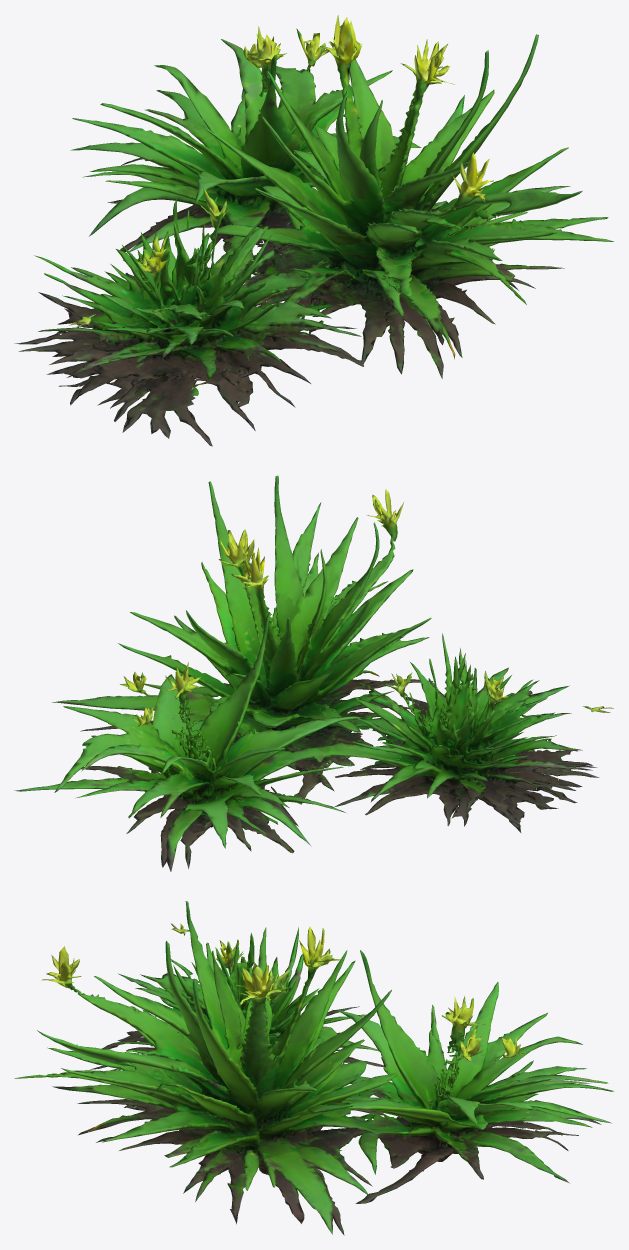
The model's file is bushes3.glb.
The picture shows the model from 3 angles, top to bottom: view 1: azimuth 30°, elevation 25°; view 2: azimuth 150°, elevation 25°; view 3: azimuth 270°, elevation 25°; orthographic projection. The views are drawn at different scales.
Bounding box in the file's own units: 1.95 × 0.9304 × 1.97.
Materials: 1 (1 with a texture image).
